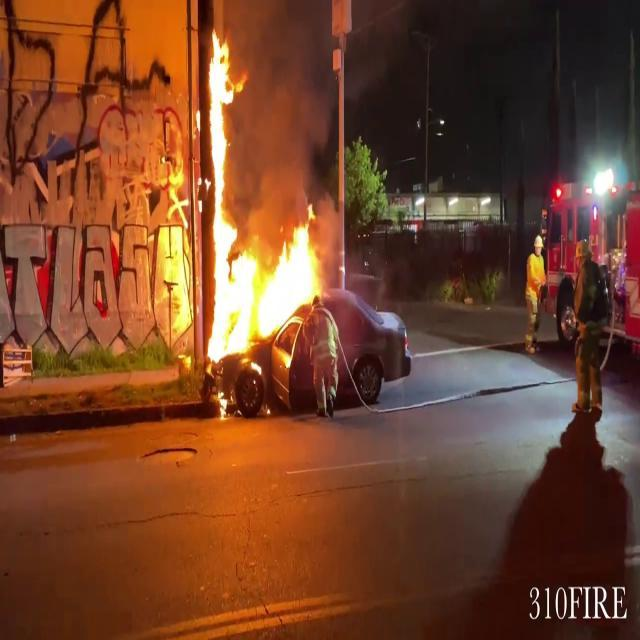Fire: (202, 207, 328, 373), (204, 24, 242, 375)
Smoke: (232, 0, 336, 213)
